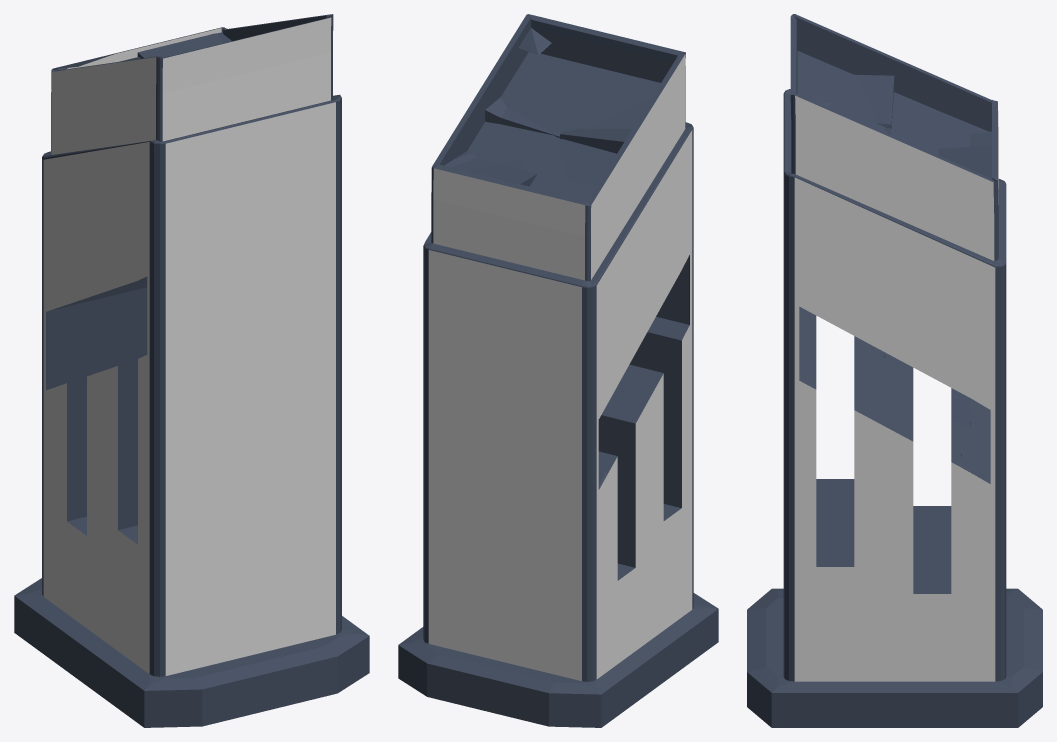
Rendered from SlantBuilding.fbx.
3 views of the same model, side by side, from view 1: azimuth 30°, elevation 25°; view 2: azimuth 150°, elevation 25°; view 3: azimuth 270°, elevation 25° (orthographic). The views are drawn at different scales.
Visible parts, largest first — view 1: Building, Building_cell.097, Building_cell.037, Building_cell.112, Building_cell.055, Building_cell.074, Building_cell.062, Building_cell.032, Building_cell.009, Building_cell.085, Building_cell.031, Building_cell.079 (+15 smaller); view 2: Building, Building_cell.031, Building_cell.099, Building_cell.060, Building_cell.043, Building_cell.102, Building_cell.019, Building_cell.071, Building_cell.030, Building_cell.023, Building_cell.054, Building_cell.028 (+9 smaller); view 3: Building, Building_cell.067, Building_cell.081, Building_cell.029, Building_cell.042, Building_cell.082, Building_cell.035, Building_cell.079, Building_cell.118, Building_cell.049, Building_cell.019, Building_cell.097 (+20 smaller).
Part boxes in pixels (box(x1,y1,x2,y2)): Building: box(14, 14, 369, 727); Building_cell.097: box(202, 417, 341, 588); Building_cell.037: box(161, 515, 261, 725); Building_cell.112: box(251, 282, 341, 436); Building_cell.055: box(115, 183, 250, 319); Building_cell.074: box(251, 167, 341, 306); Building_cell.062: box(147, 297, 254, 401); Building_cell.032: box(148, 100, 251, 213); Building_cell.009: box(248, 79, 341, 198); Building_cell.085: box(138, 357, 251, 463); Building_cell.031: box(45, 452, 137, 628); Building_cell.079: box(254, 567, 347, 650); Building: box(398, 14, 718, 726); Building_cell.031: box(596, 490, 678, 638); Building_cell.099: box(644, 473, 705, 684); Building_cell.060: box(449, 29, 673, 186); Building_cell.043: box(405, 648, 495, 710); Building_cell.102: box(631, 213, 684, 326); Building_cell.019: box(504, 97, 651, 186); Building_cell.071: box(601, 390, 663, 494); Building_cell.030: box(483, 594, 567, 690); Building_cell.023: box(592, 270, 636, 352); Building_cell.054: box(560, 114, 688, 213); Building_cell.028: box(587, 629, 659, 702); Building: box(747, 14, 1042, 726); Building_cell.067: box(882, 550, 995, 675); Building_cell.081: box(895, 628, 1033, 727); Building_cell.029: box(799, 239, 908, 339); Building_cell.042: box(788, 168, 893, 241); Building_cell.082: box(890, 238, 994, 323); Building_cell.035: box(835, 496, 913, 636); Building_cell.079: box(769, 616, 894, 727); Building_cell.118: box(797, 27, 991, 131); Building_cell.049: box(854, 383, 913, 508); Building_cell.019: box(797, 50, 937, 132); Building_cell.097: box(783, 474, 816, 624).
Bounding box in the file's own units: 1430 × 3978 × 1716.
